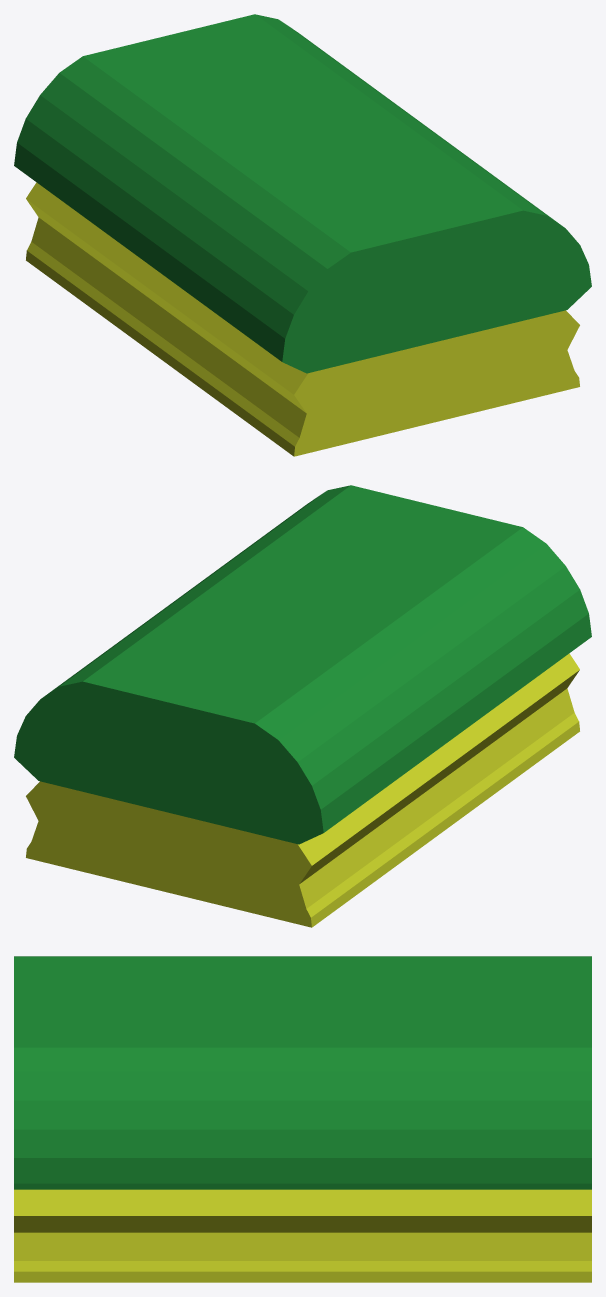
File: scrubber.fbx
3 views of the same model, one above another, from view 1: azimuth 30°, elevation 25°; view 2: azimuth 150°, elevation 25°; view 3: azimuth 270°, elevation 25° (orthographic). The views are drawn at different scales.
Parts seen in each view (by area): view 1: Cylinder.001; view 2: Cylinder.001; view 3: Cylinder.001.
Boxes of the visible parts, x1,y1,x2,y2 form: Cylinder.001: [14, 14, 591, 456]; Cylinder.001: [14, 485, 591, 927]; Cylinder.001: [14, 956, 591, 1282].
Size of the model in its own units: 200 by 117 by 300.
